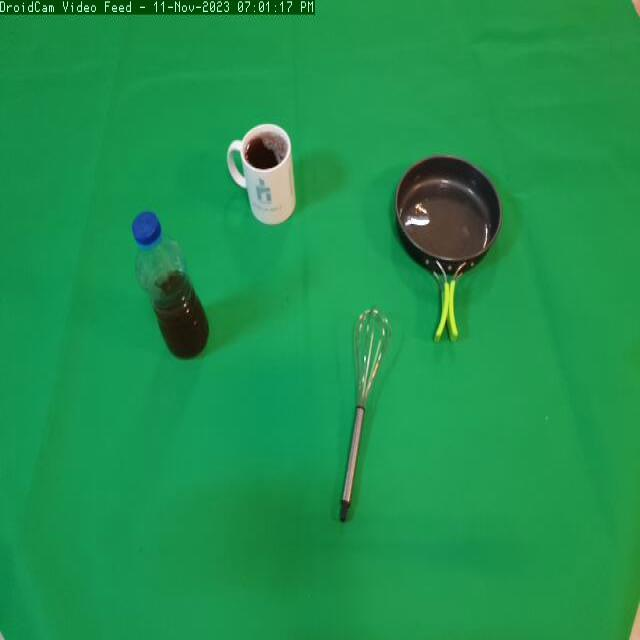fullbottle: (126, 199, 215, 371)
fullcup: (227, 120, 301, 238)
pan: (387, 144, 506, 343)
whisk: (331, 305, 412, 532)
